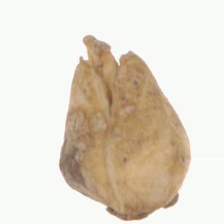L1: (76, 32, 131, 92), (102, 201, 157, 221)
L2: (57, 35, 192, 220)
